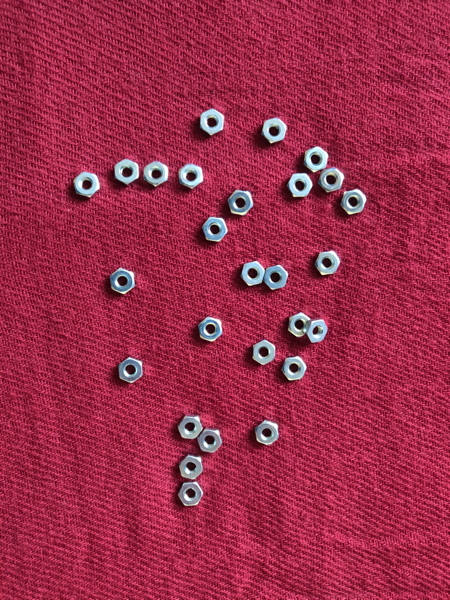nut: (260, 117, 289, 146), (226, 189, 255, 217), (116, 356, 144, 385), (142, 160, 169, 190), (113, 159, 141, 187), (177, 162, 205, 190), (73, 171, 100, 199), (314, 250, 342, 277), (303, 146, 330, 174), (318, 167, 345, 195), (340, 189, 368, 216), (109, 268, 137, 295), (178, 453, 205, 481), (199, 108, 225, 137), (201, 216, 228, 243), (287, 172, 314, 199), (198, 316, 225, 343), (251, 339, 278, 366), (287, 312, 314, 339), (177, 415, 204, 442), (263, 263, 288, 291), (197, 428, 223, 454), (239, 261, 266, 286), (281, 356, 308, 381), (177, 482, 205, 506), (254, 420, 279, 446), (303, 319, 328, 344)
